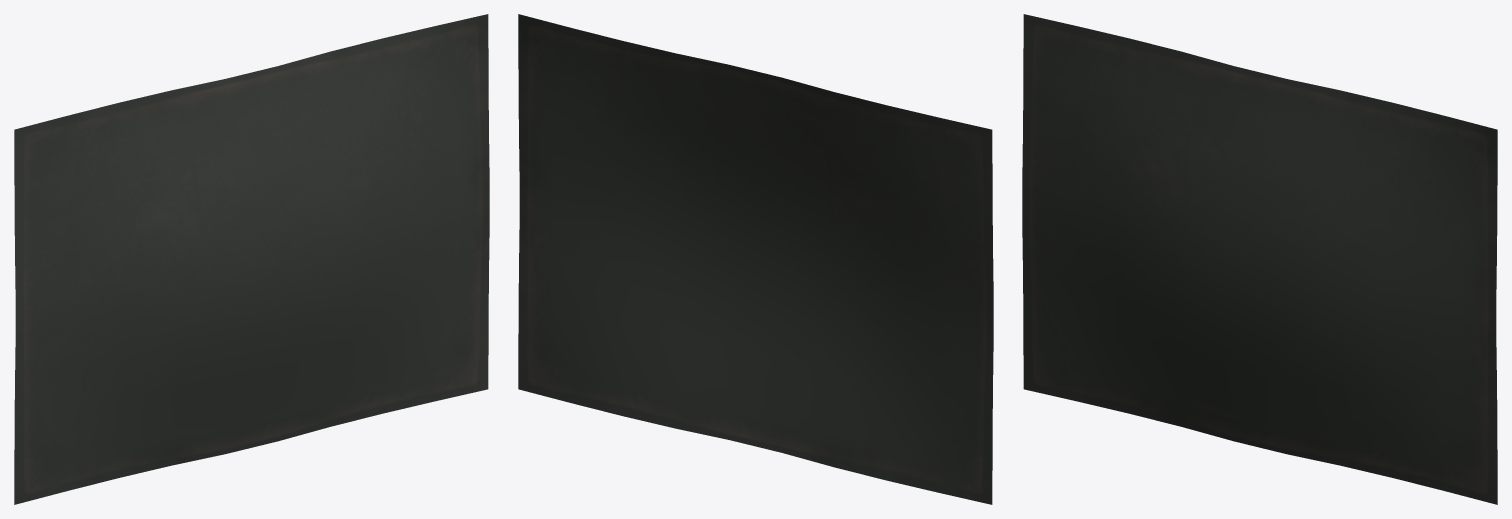
File: TelevisionScreen.obj
The picture shows the model from 3 angles, left to right: view 1: azimuth 30°, elevation 25°; view 2: azimuth 150°, elevation 25°; view 3: azimuth 330°, elevation 25°; orthographic projection.
Parts seen in each view (by area): view 1: TV_Screen; view 2: TV_Screen; view 3: TV_Screen.
Boxes of the visible parts, <box> form: TV_Screen: <box>14,14,489,504</box>; TV_Screen: <box>518,14,993,504</box>; TV_Screen: <box>1022,14,1497,504</box>.
Size of the model in its own units: 0.3835 by 0.2901 by 0.0241.
